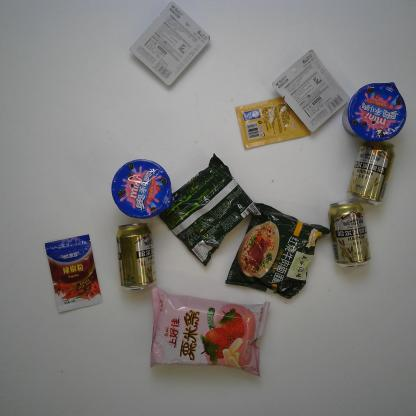Alcohol: (344, 139, 396, 208), (329, 199, 374, 269), (115, 221, 158, 293)
Dessert: (344, 79, 407, 143), (110, 157, 174, 220)
Instant Noodles: (158, 151, 264, 270), (224, 198, 325, 302)
Puffed Food: (141, 284, 271, 383)
Seasoner: (44, 233, 110, 312), (234, 96, 312, 152)
Stationery: (130, 1, 212, 87), (271, 48, 351, 136)
